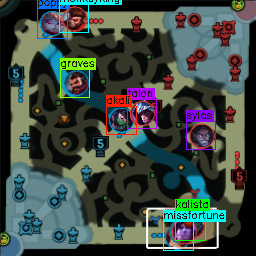akali: (109, 108, 131, 132)
graves: (63, 71, 88, 95)
kalista: (180, 211, 203, 235)
missfortune: (165, 224, 190, 248)
monkeyking: (62, 6, 85, 30)
poppy: (40, 10, 63, 36)
sylas: (189, 122, 214, 149)
talon: (130, 100, 153, 126)
taric: (171, 217, 197, 245)
